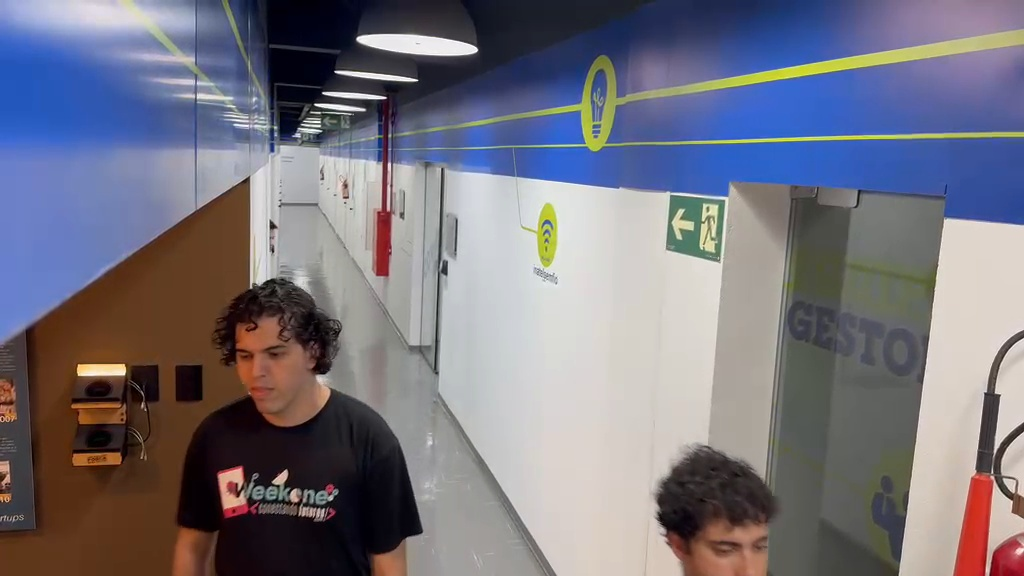person: (169, 278, 422, 572), (652, 443, 777, 574)
